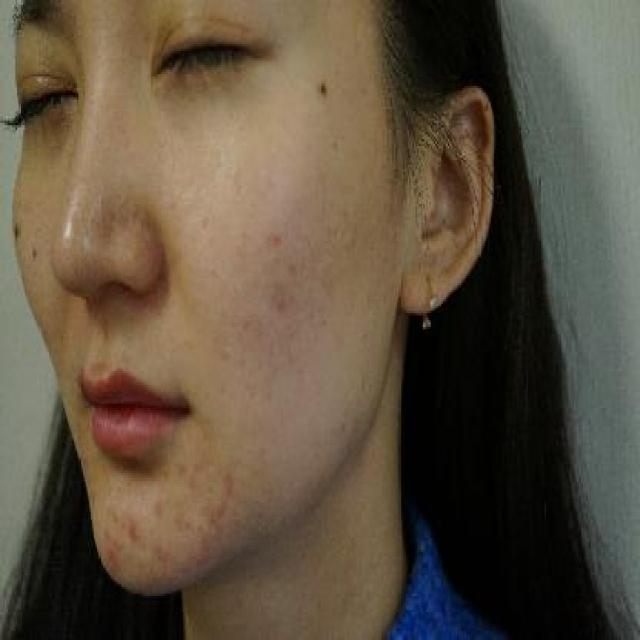Acne: (268, 271, 295, 320), (215, 457, 243, 503), (201, 498, 234, 534), (121, 512, 148, 556)
Blackheads: (312, 71, 336, 106)
